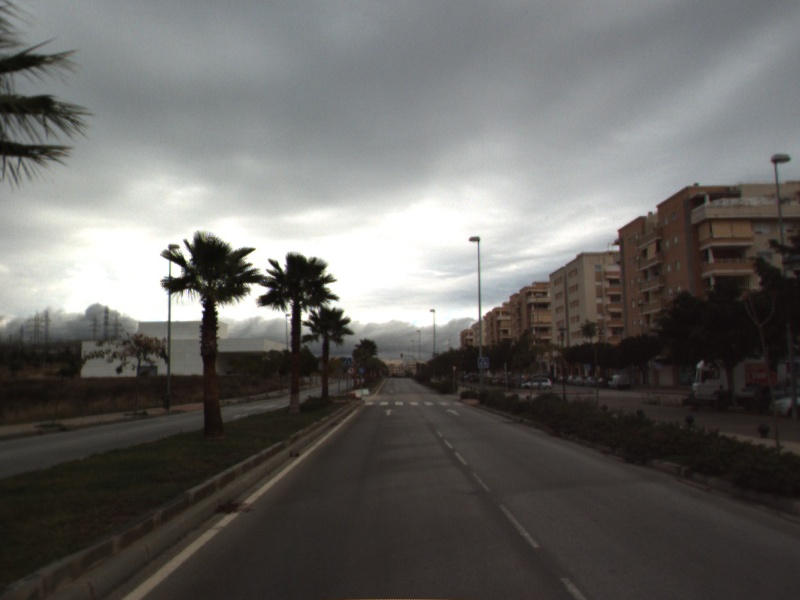STRAIGHT: (444, 406, 462, 417), (381, 407, 396, 417)
